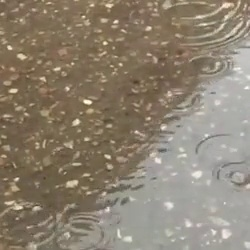drop: (169, 13, 250, 53), (1, 202, 54, 248), (161, 1, 237, 28), (57, 214, 106, 250), (214, 159, 250, 189), (188, 55, 227, 76), (164, 89, 199, 112), (50, 150, 74, 168)
